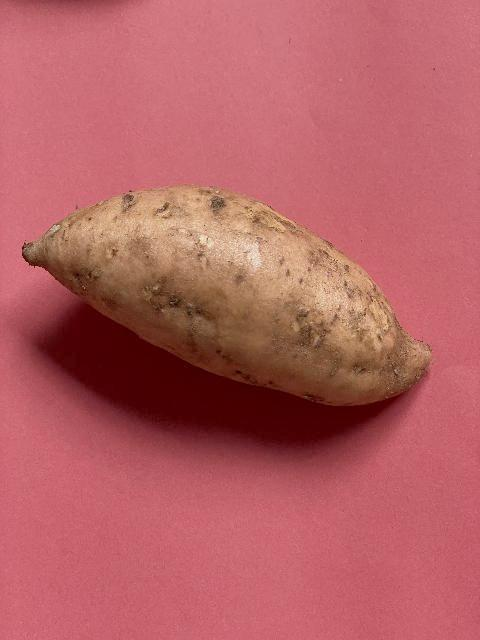sweetpotato: (19, 181, 435, 409)
